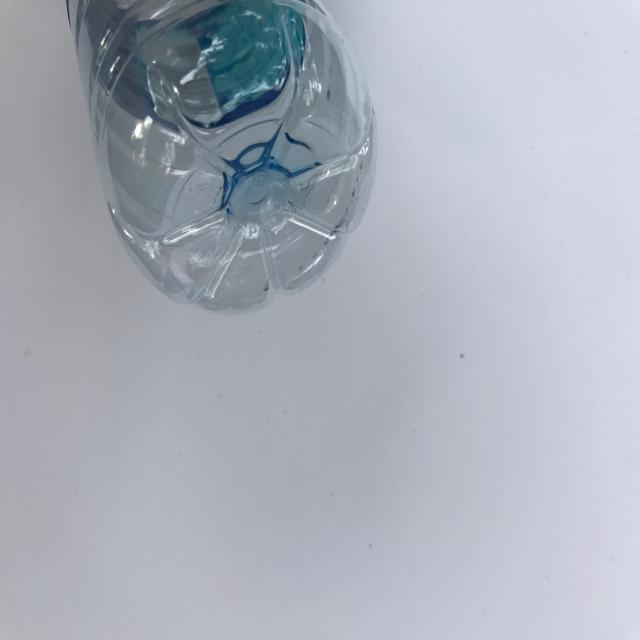plastic: (63, 0, 384, 314)
